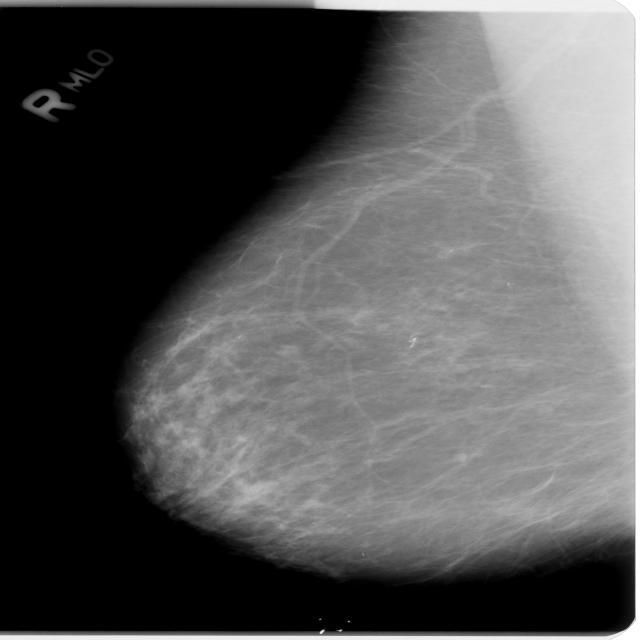normal: (100, 0, 640, 583)
